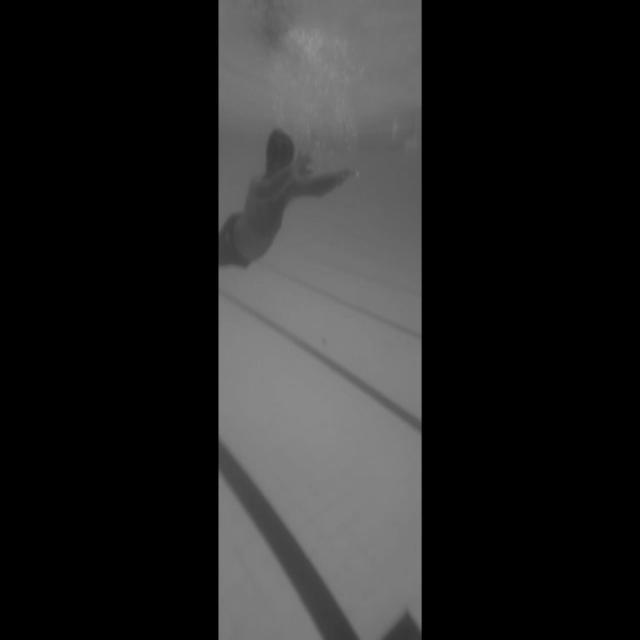drowning: (223, 121, 382, 304)
